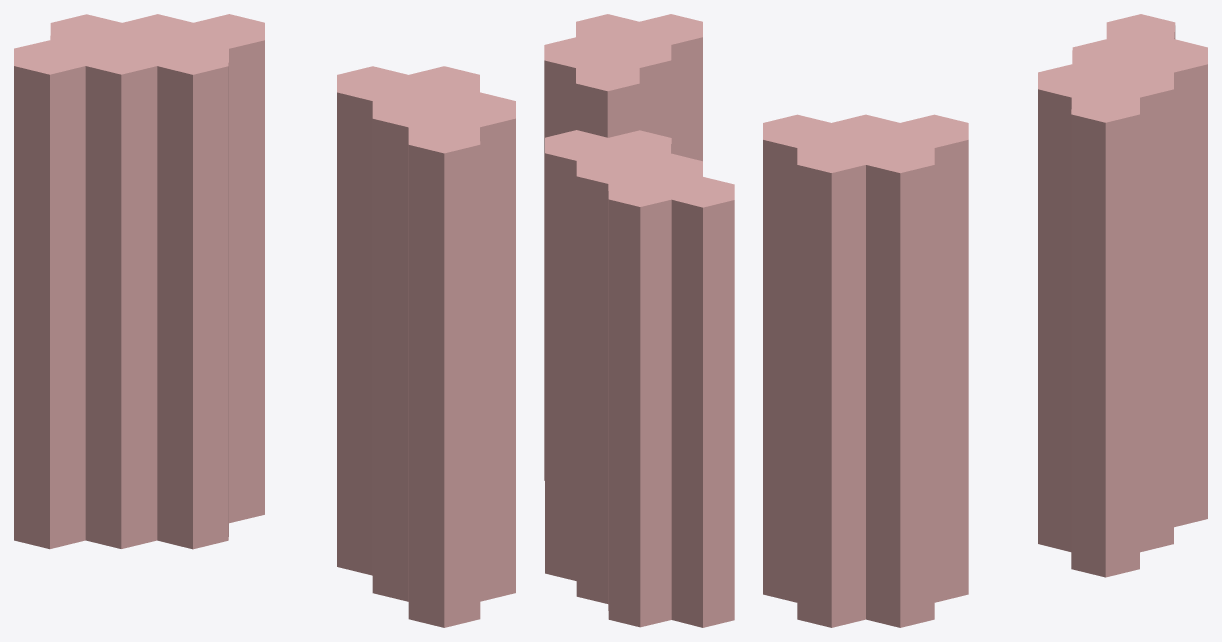
File: level04_castleBridge03.fbx
3 views of the same model, side by side, from view 1: azimuth 30°, elevation 25°; view 2: azimuth 150°, elevation 25°; view 3: azimuth 270°, elevation 25° (orthographic). The views are drawn at different scales.
Parts seen in each view (by area): view 1: level04_castleBridge03; view 2: level04_castleBridge03; view 3: level04_castleBridge03.
Boxes of the visible parts, x1,y1,x2,y2 form: level04_castleBridge03: (14,14,515,627); level04_castleBridge03: (544,14,734,627); level04_castleBridge03: (763,14,1207,627).
Bounding box in the file's own units: 1125 × 1498 × 1328.
